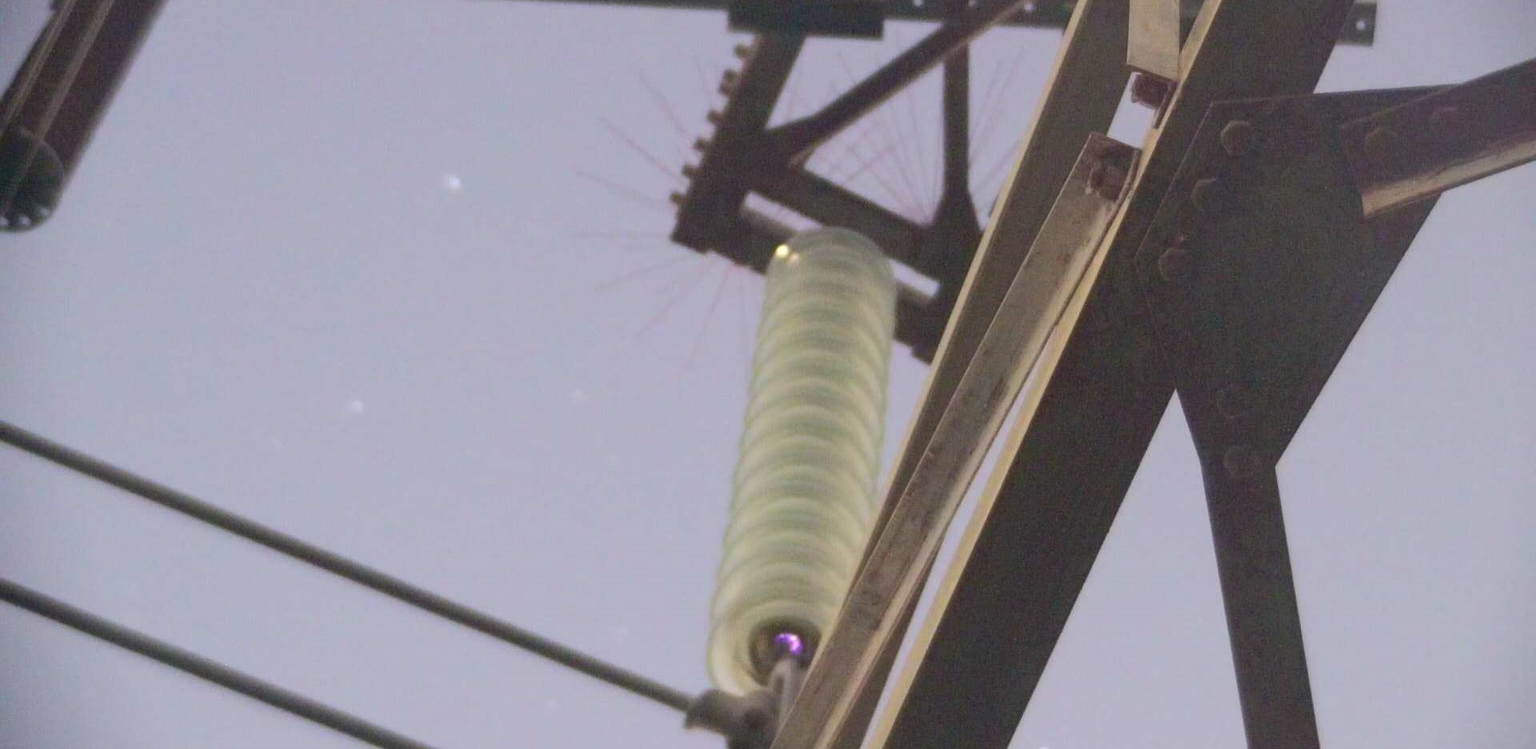绝缘子污闪: (773, 630, 803, 655)
